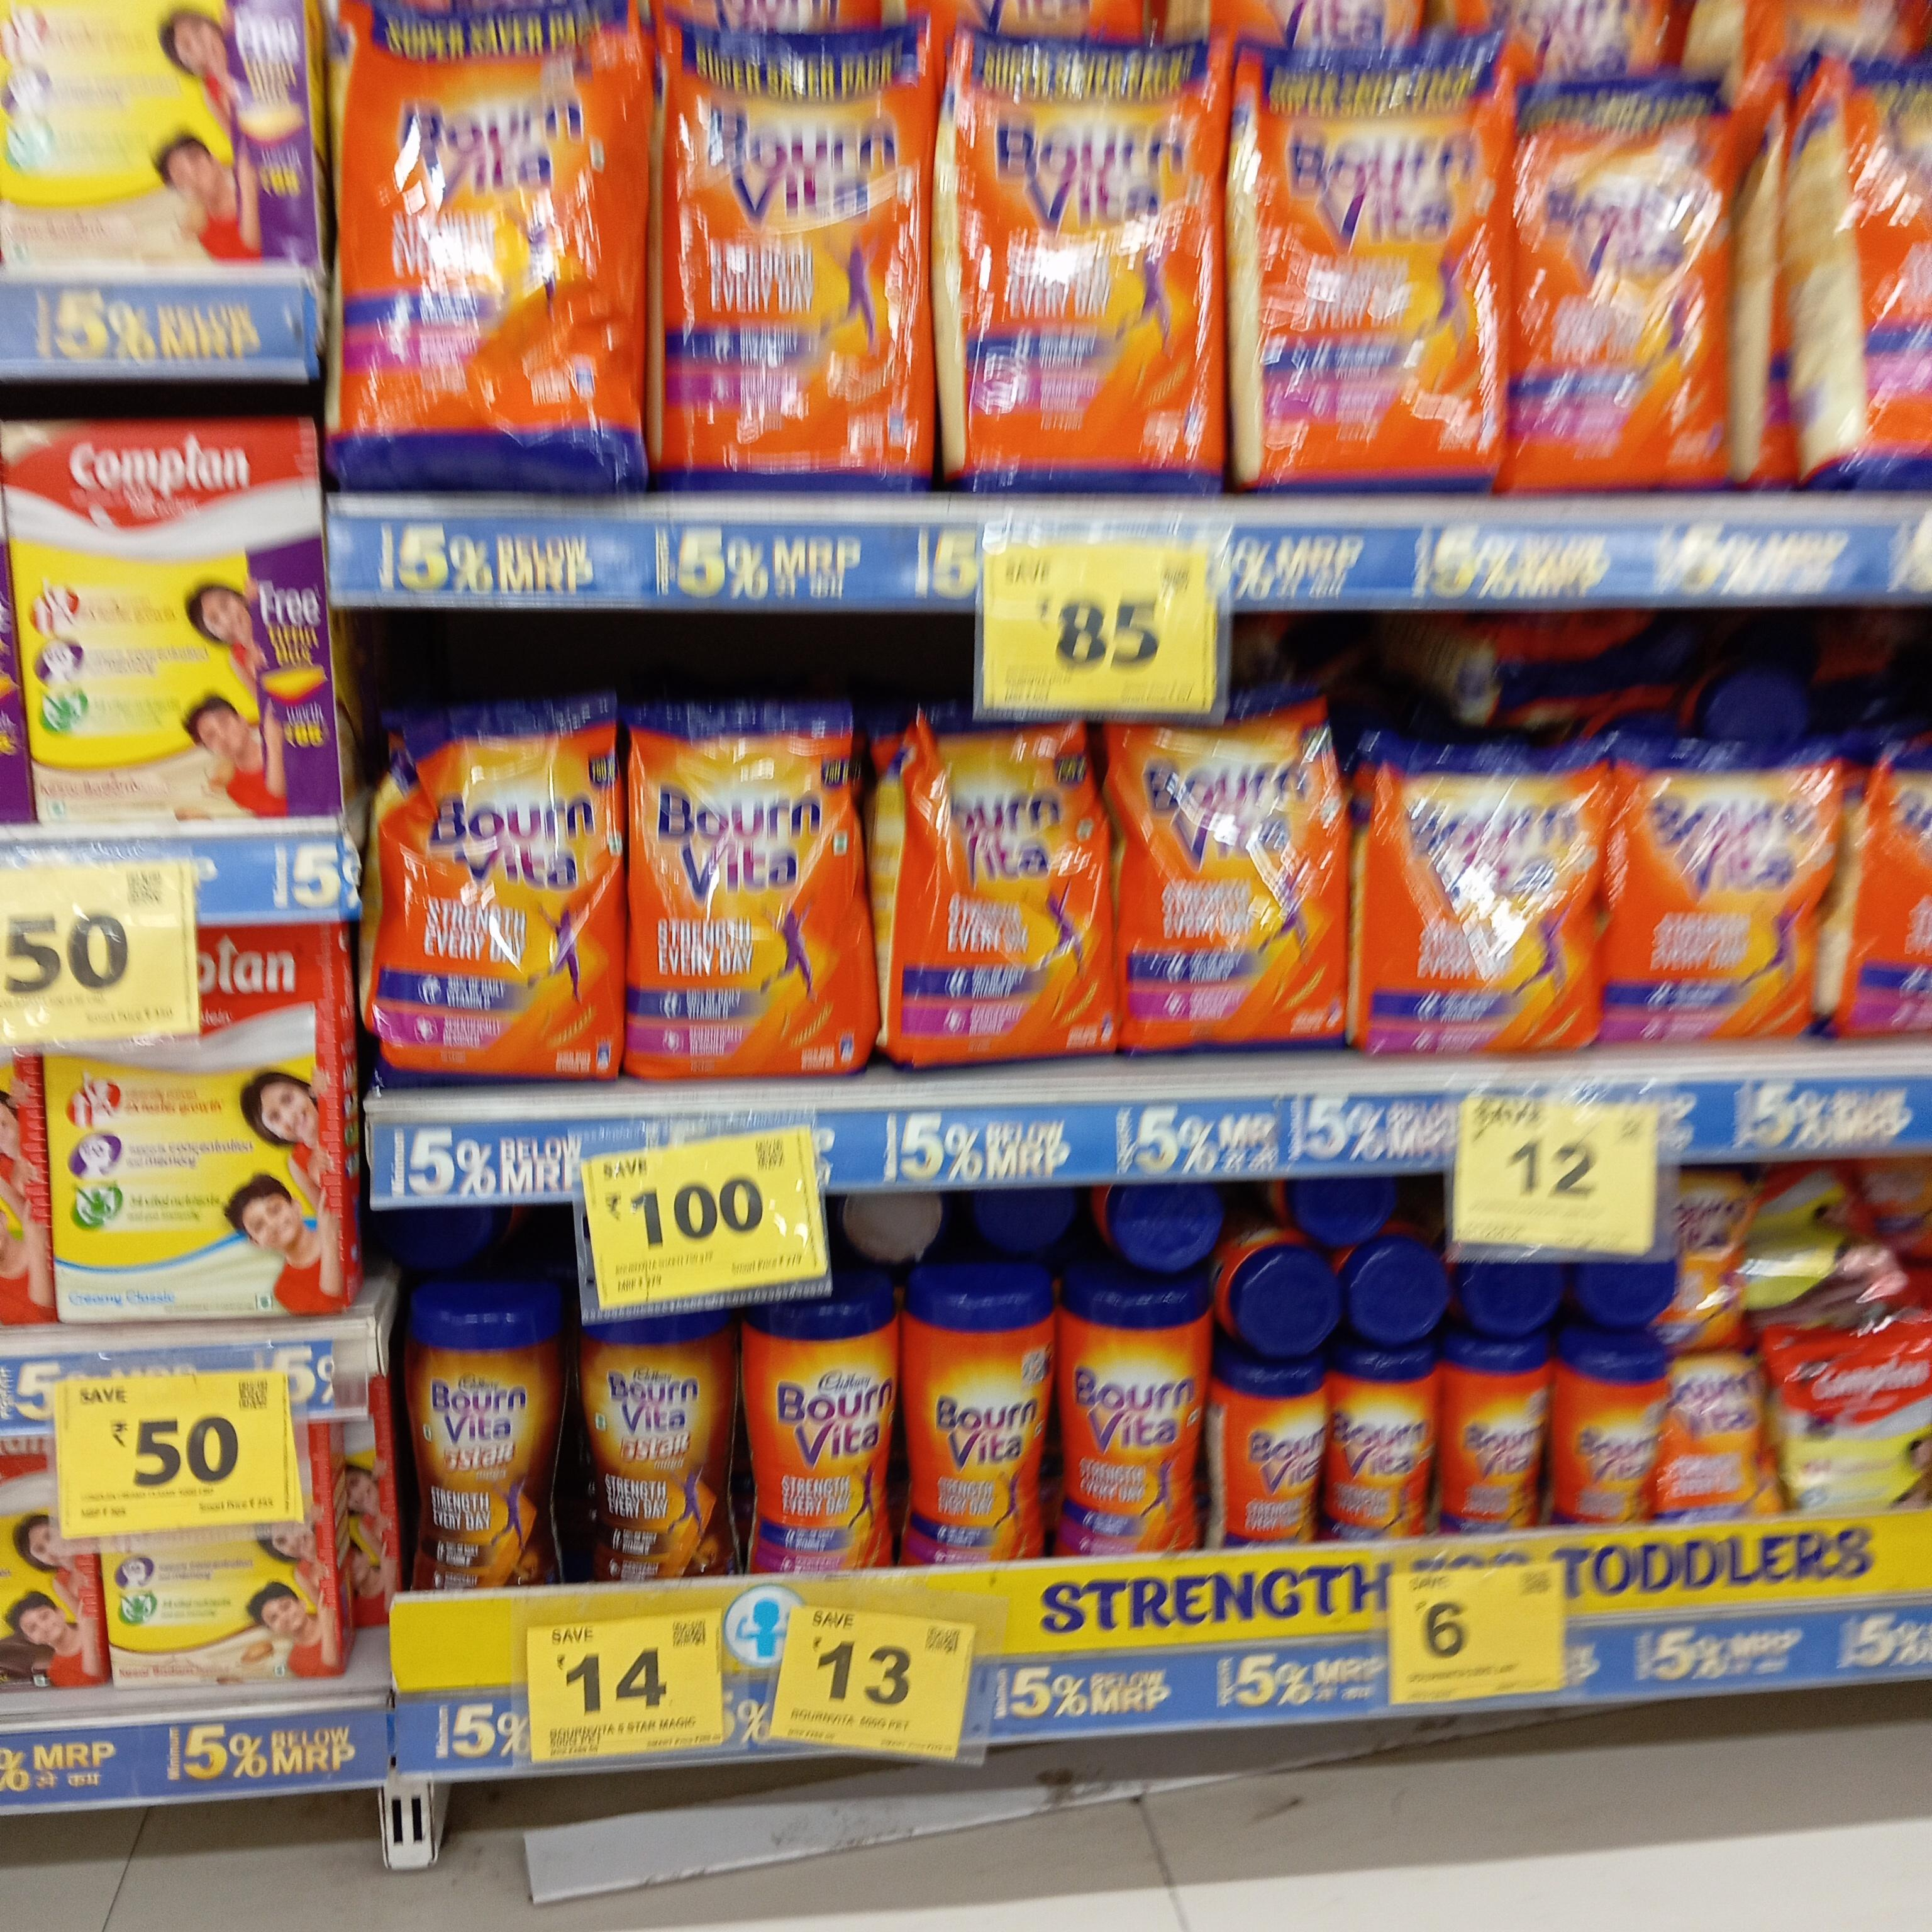BOURN_VITA_1_KG_POUCH: (338, 7, 639, 488), (950, 35, 1205, 494), (671, 25, 918, 490), (1256, 51, 1493, 487), (1511, 78, 1729, 497)
BOURN_VITA_200_G_JAR: (1214, 1361, 1327, 1552), (1557, 1339, 1665, 1520), (1447, 1345, 1548, 1536), (1332, 1357, 1431, 1541)
BOURN_VITA_500_G_JAR: (908, 1272, 1054, 1571), (752, 1293, 895, 1575), (1067, 1277, 1201, 1559)
BOURN_VITA_500_G_POUCH: (1392, 741, 1608, 1054), (1624, 743, 1826, 1054)
BOURN_VITA_750_G_POUCH: (379, 709, 621, 1090), (639, 713, 874, 1083), (1118, 702, 1338, 1063), (920, 713, 1111, 1074)
BOURN_VITA_FIVE_STAR_MAGIC_500_G_JAR: (584, 1302, 747, 1591), (403, 1290, 554, 1601)
COMPLAN_KESAR_BADAM_500_GMS_PACK: (12, 421, 329, 817)
